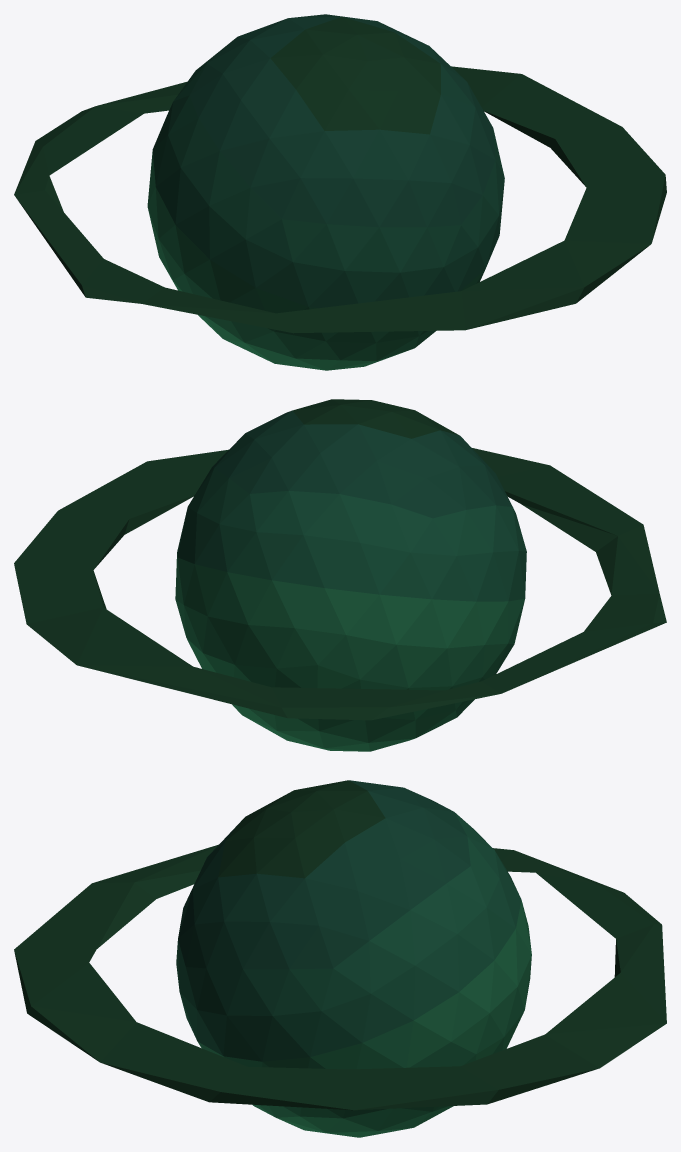
Rendered from Planet6.glb.
The picture shows the model from 3 angles, top to bottom: view 1: azimuth 30°, elevation 25°; view 2: azimuth 150°, elevation 25°; view 3: azimuth 270°, elevation 25°; orthographic projection.
Visible parts, largest first — view 1: Planet_06; view 2: Planet_06; view 3: Planet_06.
Boxes of the visible parts, <box> form: Planet_06: <box>14,14,666,370</box>; Planet_06: <box>14,399,666,751</box>; Planet_06: <box>14,780,666,1137</box>.
Bounding box in the file's own units: 4.82 × 2.58 × 4.74.
